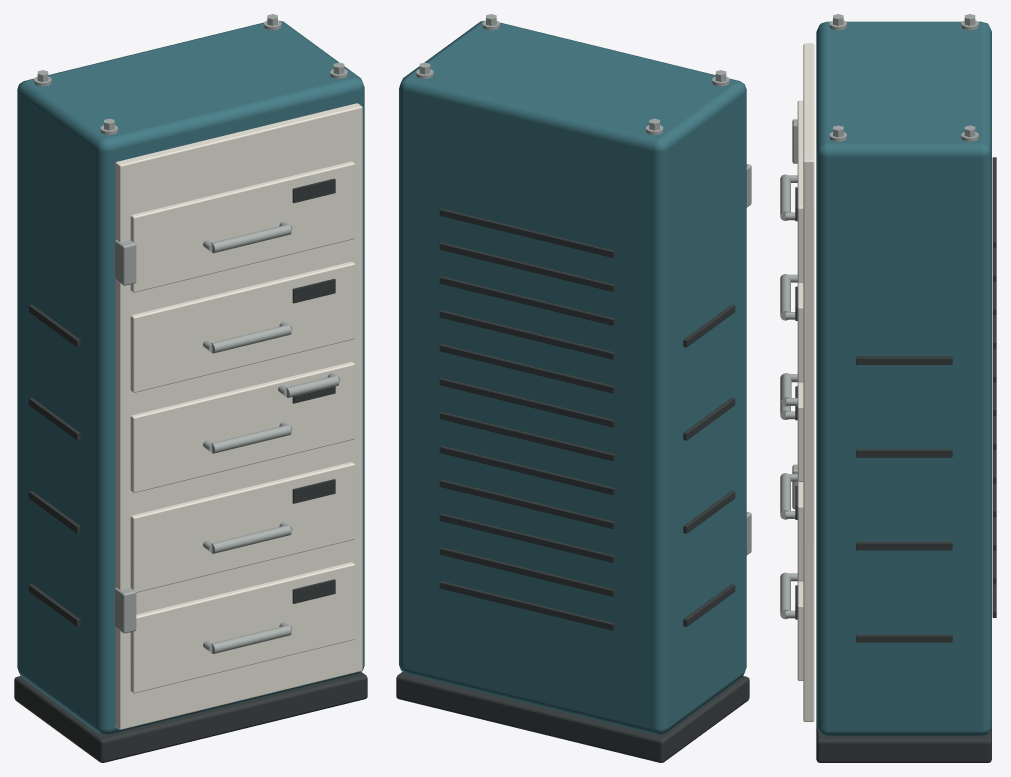
File: optician-and-optical-lens-workshop-optician-and-optica-ea6e8c97__31690.glb
The picture shows the model from 3 angles, left to right: view 1: azimuth 30°, elevation 25°; view 2: azimuth 150°, elevation 25°; view 3: azimuth 270°, elevation 25°; orthographic projection.
Visible parts, largest first — view 1: optician-and-optical-lens-workshop-lens-dispensing-cabinet; view 2: optician-and-optical-lens-workshop-lens-dispensing-cabinet; view 3: optician-and-optical-lens-workshop-lens-dispensing-cabinet.
Part boxes in pixels (x1=…): optician-and-optical-lens-workshop-lens-dispensing-cabinet: x1=14, y1=14, x2=367, y2=762; optician-and-optical-lens-workshop-lens-dispensing-cabinet: x1=396, y1=14, x2=751, y2=762; optician-and-optical-lens-workshop-lens-dispensing-cabinet: x1=780, y1=14, x2=996, y2=762.
Size of the model in its own units: 0.722 by 1.58 by 0.4925.
